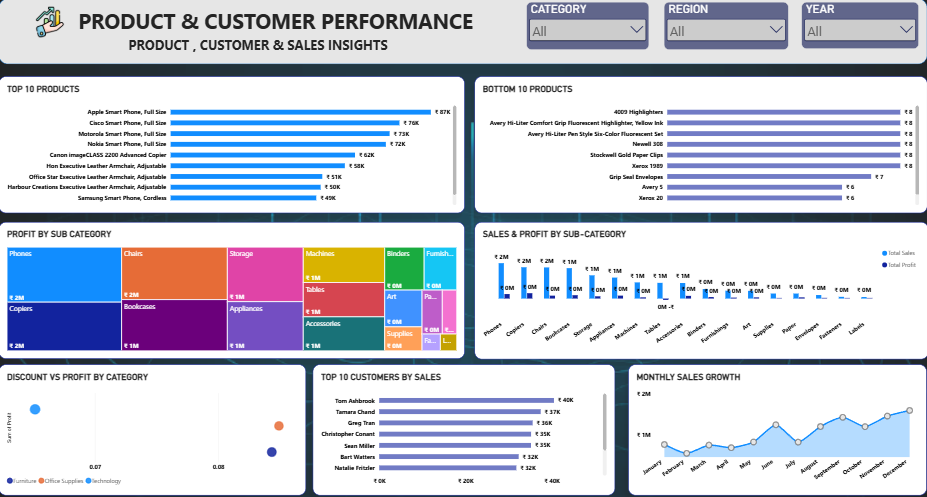

What the dashboard file says about the page in this screenshot:
{"tool":"powerbi","page":{"name":"Page 2","canvas":[1920,1080],"ordinal":1},"visuals":[{"type":"barChart","title":"TOP 10 PRODUCTS","fields":{"Category":["superstore.Product_Name"],"Y":["superstore.Total Sales"]},"box":[0,181.7,960,282.4],"z":0},{"type":"barChart","title":"BOTTOM 10 PRODUCTS","fields":{"Category":["superstore.Product_Name"],"Y":["superstore.Total Sales"]},"box":[979.6,181.7,933,282.4],"z":1000},{"type":"treemap","title":"PROFIT BY SUB CATEGORY","fields":{"Group":["superstore.Sub_Category"],"Values":["superstore.Total Sales"]},"box":[0,483.7,960,282.4],"z":2000},{"type":"clusteredColumnChart","title":"SALES & PROFIT BY SUB-CATEGORY","fields":{"Category":["superstore.Sub_Category"],"Y":["superstore.Total Sales","superstore.Total Profit"]},"box":[979.6,483.7,935,282.5],"z":3000},{"type":"scatterChart","title":"DISCOUNT VS PROFIT BY CATEGORY","fields":{"Series":["superstore.Category"],"Size":["Sum(superstore.Sales)"],"X":["Avg(superstore.Discount)"],"Y":["Sum(superstore.Profit)"]},"box":[0,777.5,633.5,270.1],"z":4000},{"type":"clusteredBarChart","title":"TOP 10 CUSTOMERS BY SALES","fields":{"Category":["superstore.Customer_Name"],"Y":["superstore.Total Sales"]},"box":[645,777.5,622.5,270],"z":5000},{"type":"lineChart","title":"MONTHLY SALES GROWTH","fields":{"Category":["superstore.Ship_Date.Variation.Date Hierarchy.Month"],"Y":["superstore.Total Sales"]},"box":[1297.5,777.5,615,270],"z":6000},{"type":"shape","box":[0,24.6,1912.6,135],"z":7000},{"type":"textbox","box":[0,38.9,1140.5,90.7],"z":8000},{"type":"textbox","box":[19.4,101.5,1013,58.3],"z":9000},{"type":"image","box":[56.2,38.9,97.7,62.8],"z":10000},{"type":"slicer","fields":{"Values":["superstore.Category"]},"box":[1086.5,30.2,252.7,99.4],"z":11000},{"type":"slicer","fields":{"Values":["superstore.Region"]},"box":[1369.4,30.2,257,99.4],"z":12000},{"type":"slicer","fields":{"Values":["superstore.Ship_Date.Variation.Date Hierarchy.Year"]},"box":[1654.6,30.2,241.9,97.2],"z":13000}]}

Visuals, with their boxes on the page's 1920x1080 design canvas (x1, y1, x2, y2). These are canvas units, not pixel positions in the 927x497 screenshot, which may show the page scaled, cropped or inside an application window:
"TOP 10 PRODUCTS" barChart: 0:182:960:464
"BOTTOM 10 PRODUCTS" barChart: 980:182:1913:464
"PROFIT BY SUB CATEGORY" treemap: 0:484:960:766
"SALES & PROFIT BY SUB-CATEGORY" clusteredColumnChart: 980:484:1915:766
"DISCOUNT VS PROFIT BY CATEGORY" scatterChart: 0:778:634:1048
"TOP 10 CUSTOMERS BY SALES" clusteredBarChart: 645:778:1268:1048
"MONTHLY SALES GROWTH" lineChart: 1298:778:1912:1048
shape: 0:25:1913:160
textbox: 0:39:1140:130
textbox: 19:102:1032:160
image: 56:39:154:102
slicer - superstore.Category: 1086:30:1339:130
slicer - superstore.Region: 1369:30:1626:130
slicer - superstore.Ship_Date.Variation.Date Hierarchy.Year: 1655:30:1896:127
